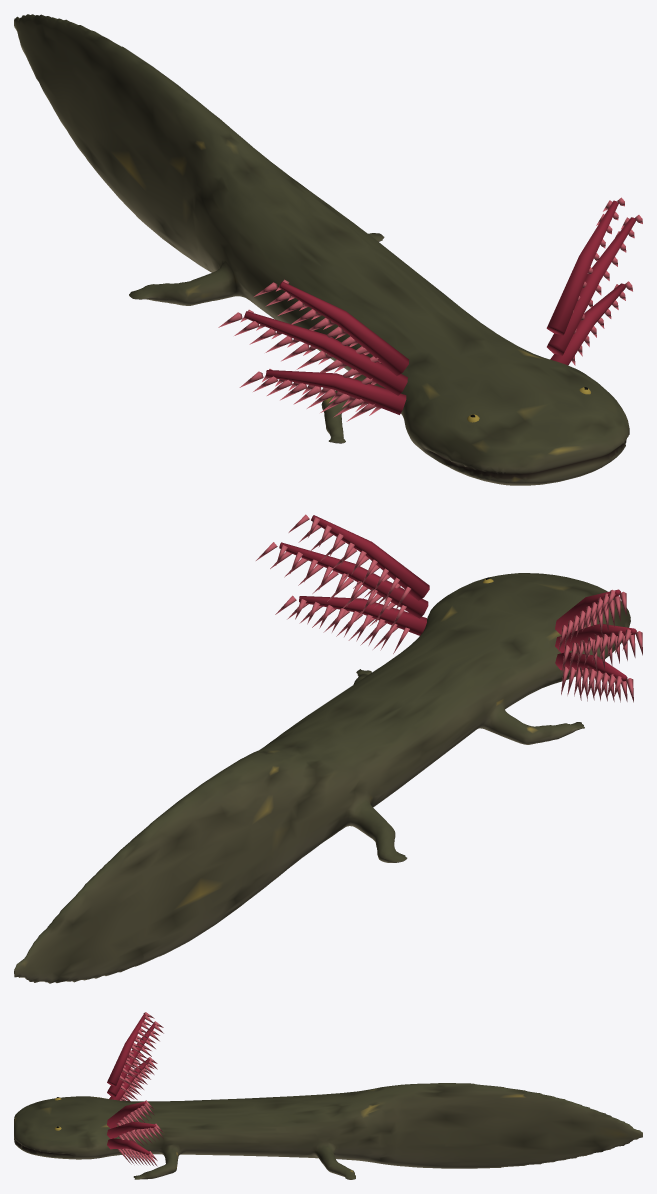
Rendered from AmbystomaMexicanum.fbx.
3 renders of one model, top to bottom at view 1: azimuth 30°, elevation 25°; view 2: azimuth 150°, elevation 25°; view 3: azimuth 270°, elevation 25°, orthographic. The views are drawn at different scales.
Visible parts, largest first — view 1: AmbystomaMexicanum; view 2: AmbystomaMexicanum; view 3: AmbystomaMexicanum.
Part boxes in pixels (x1,y1,x2,y2): AmbystomaMexicanum: (14,14,642,485); AmbystomaMexicanum: (14,514,642,983); AmbystomaMexicanum: (14,1012,642,1179).
Bounding box in the file's own units: 0.8354 × 0.3852 × 1.99.
